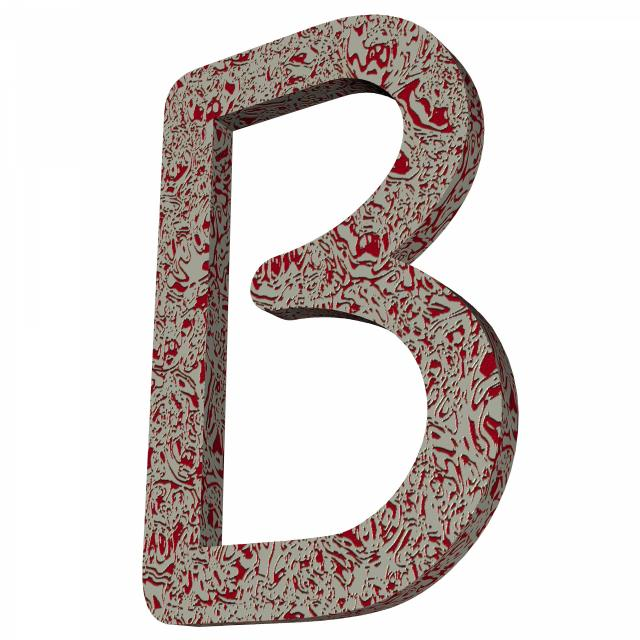B: (46, 18, 552, 632)
